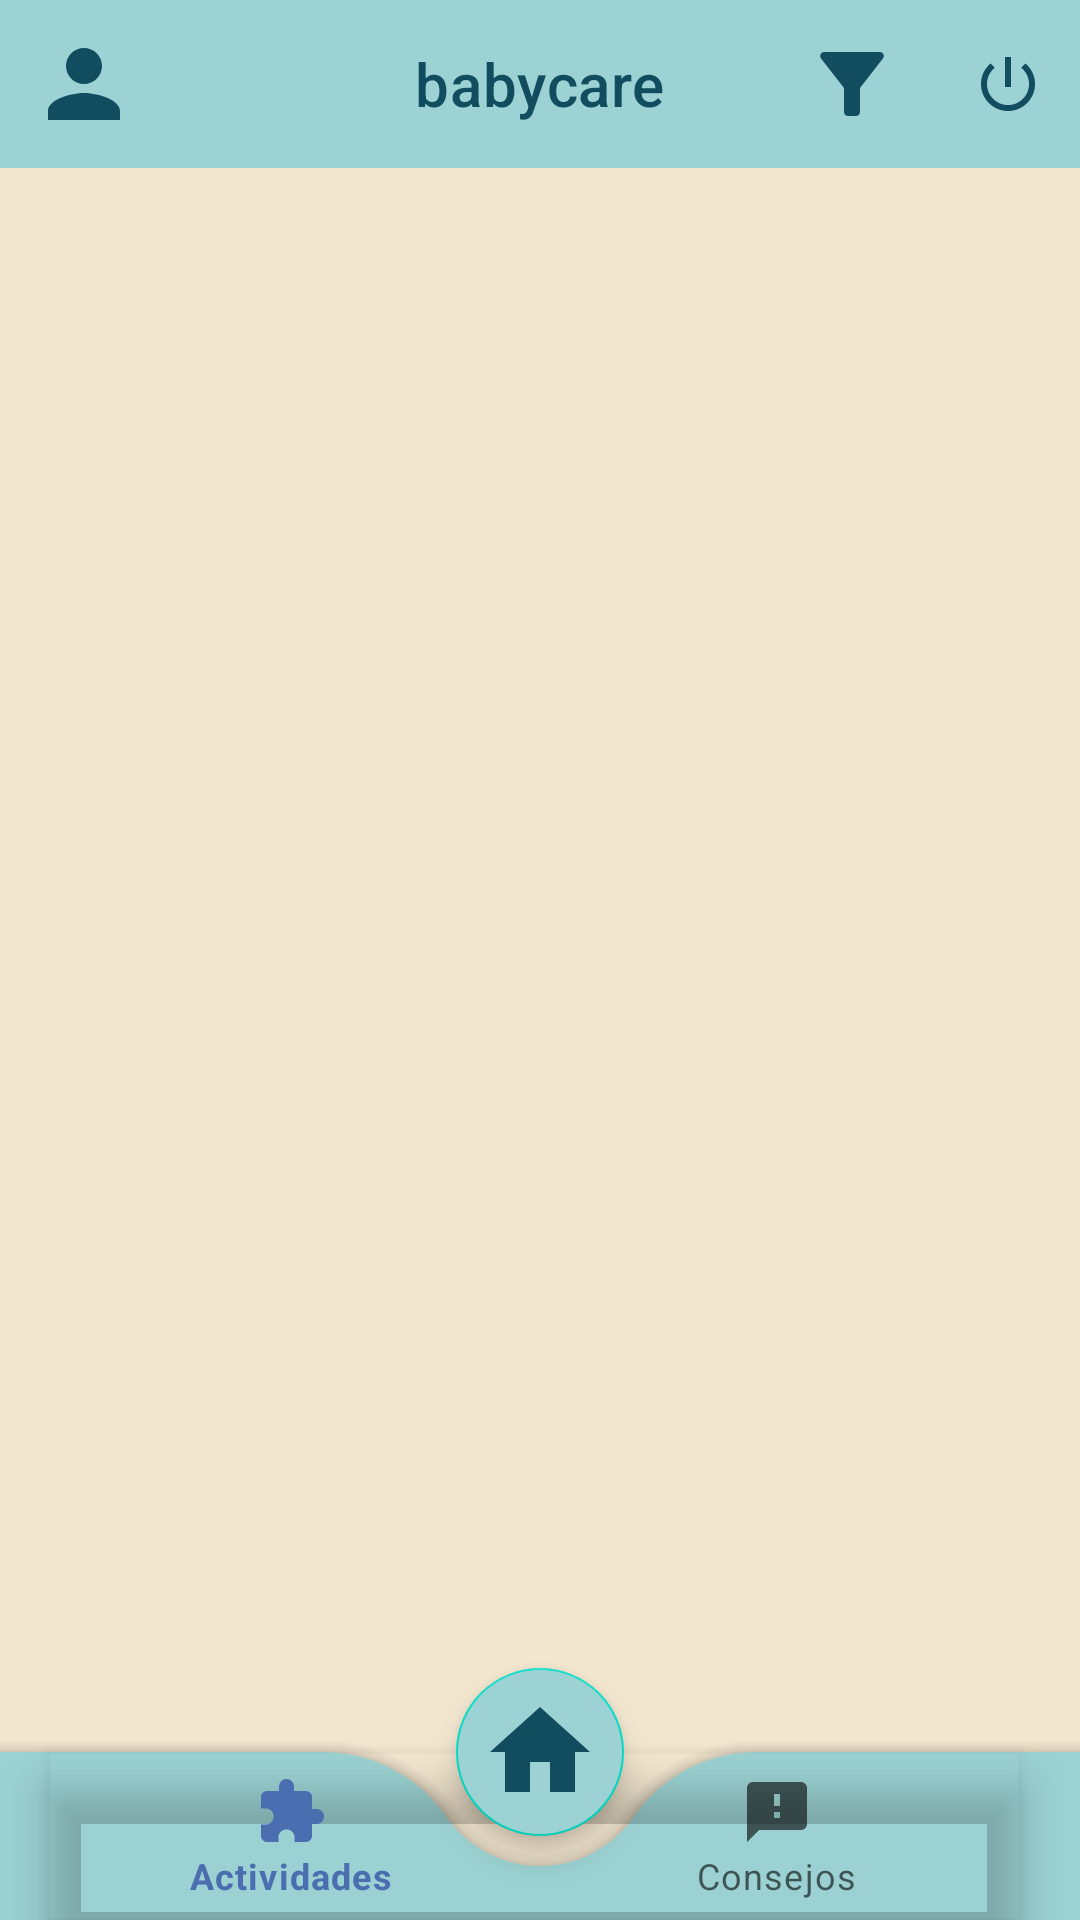

Screen size 1080 × 1920. Icon name, then its center in pixels as (x=x, y=y):
home: (x=540, y=1752)
